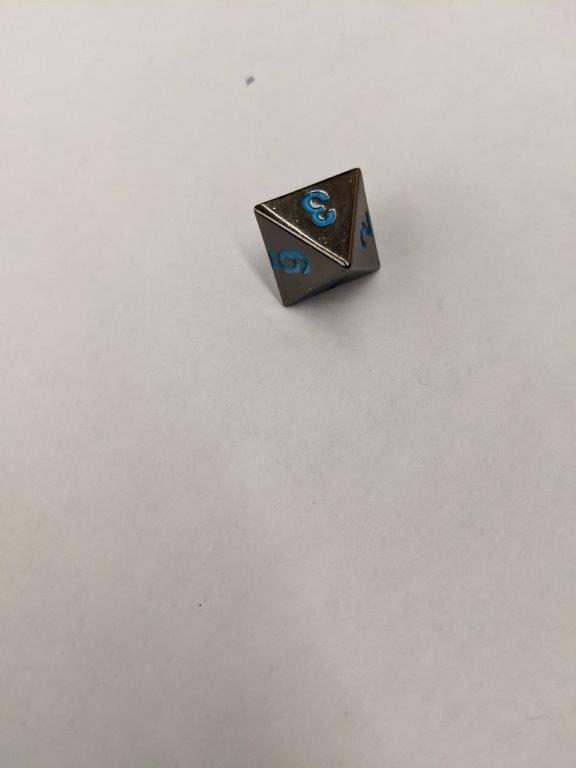d8-3: (255, 164, 380, 311)
